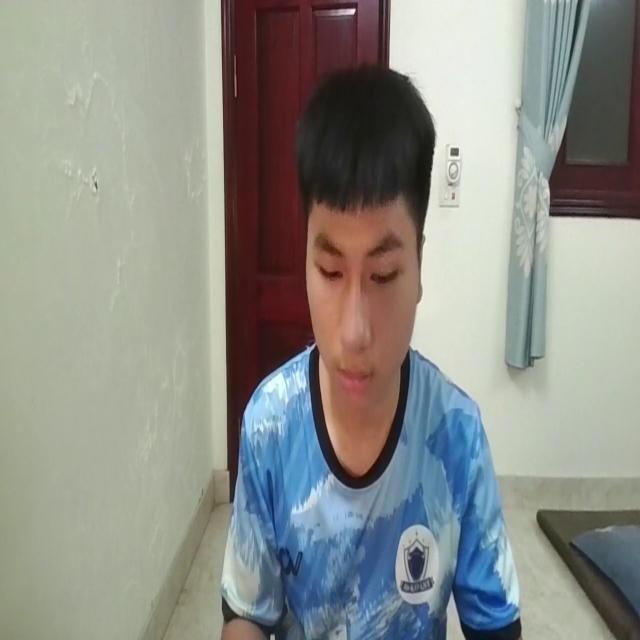student: (216, 55, 520, 640)
